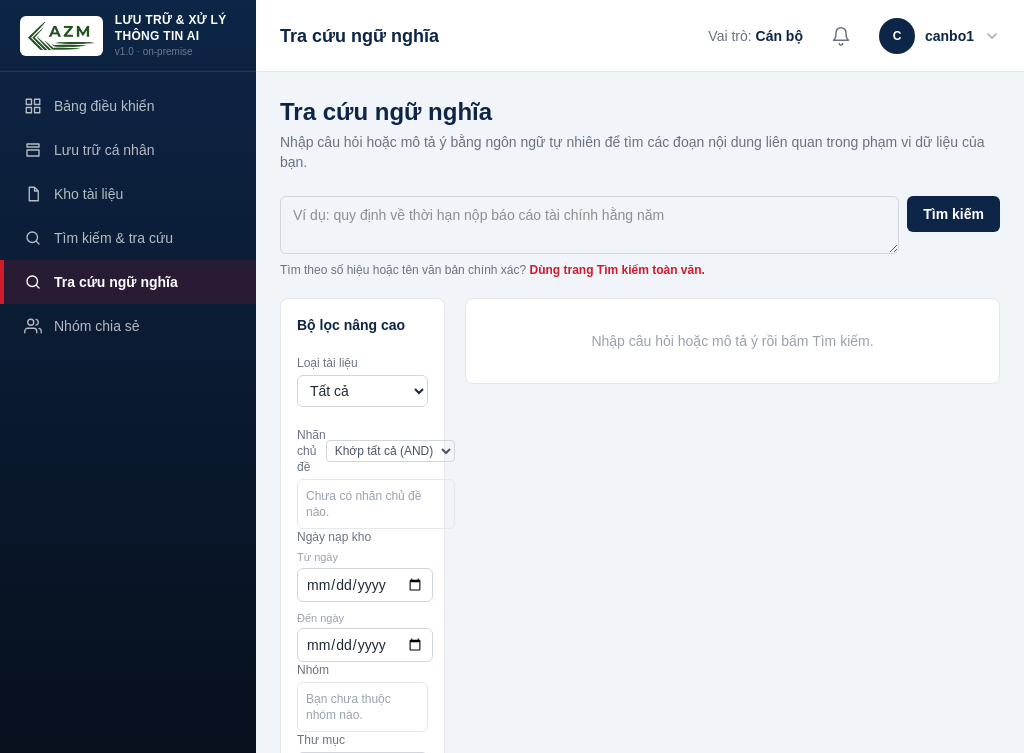
Test case: SemanticSearchPage › posts the question + filters (no mode, no threshold) and renders passages under the verbatim heading
Type "thời hạn nộp báo cáo" into the text box named "Câu hỏi hoặc mô tả ý".
click(590, 225); type("thời hạn nộp báo cáo")  # box [280,196,899,254]
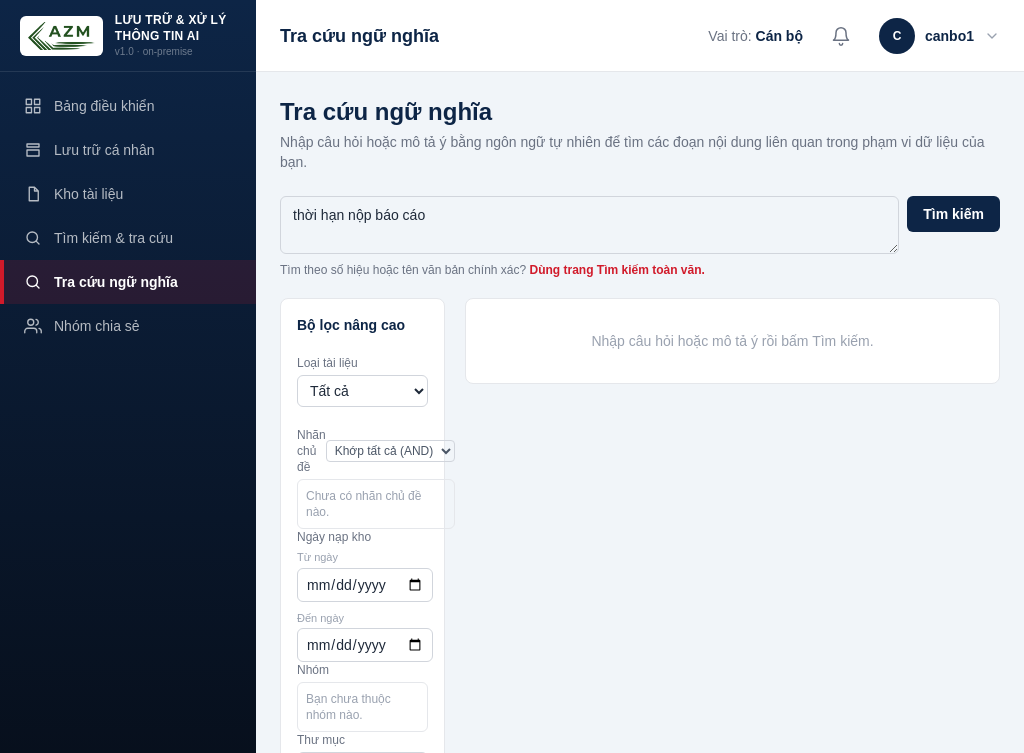
Click the button "Tìm kiếm".
click(954, 214)  # box [907,196,1000,232]
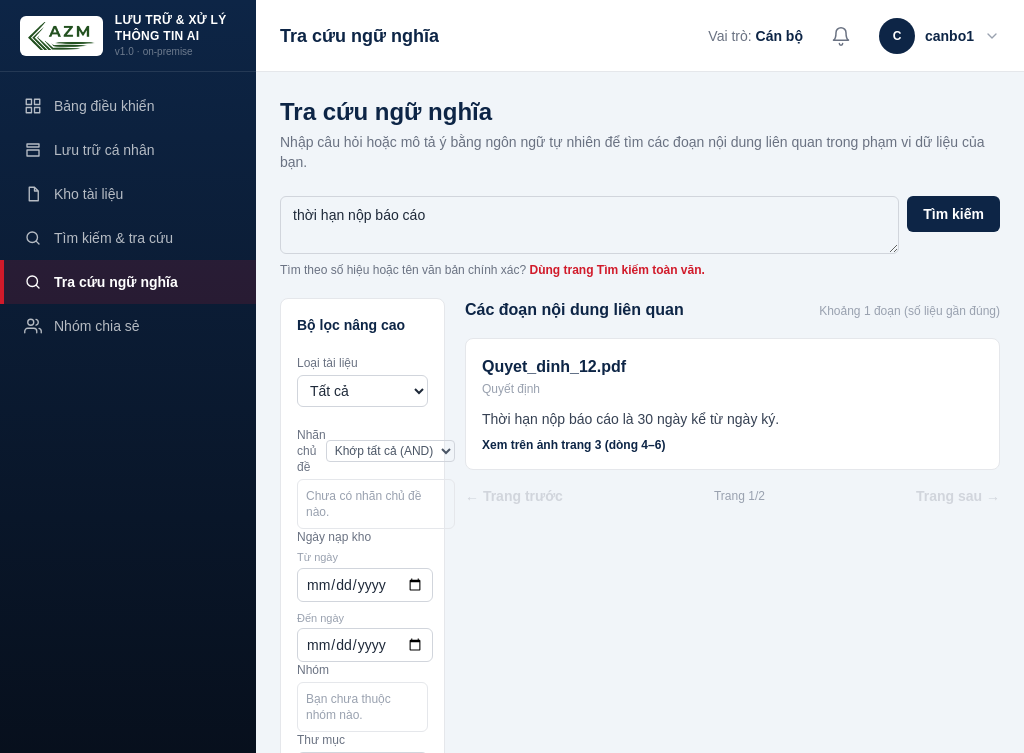
Check: the link "Quyet_dinh_12.pdf" is shown, box [482,358,626,375]
Check: the heading "Các đoạn nội dung liên quan" is shown, box [465,298,684,322]
Check: the text "Thời hạn nộp báo cáo là 30 ngày kể từ ngày ký." is shown, box [482,411,779,427]
